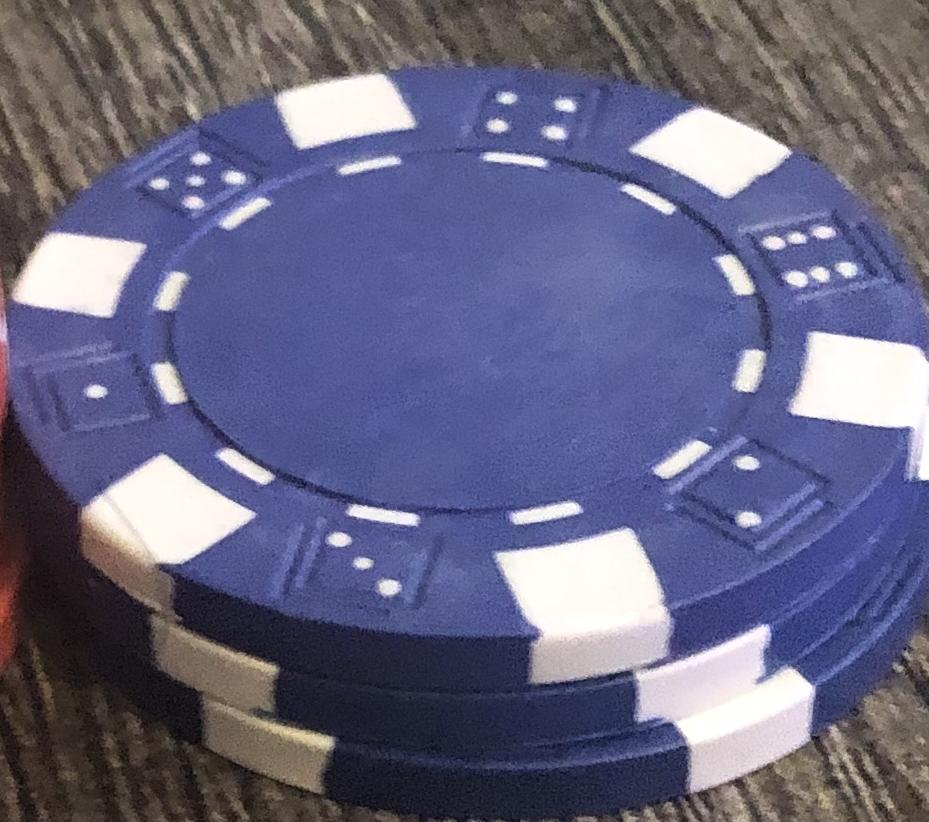Chip: (1, 1, 929, 822)
